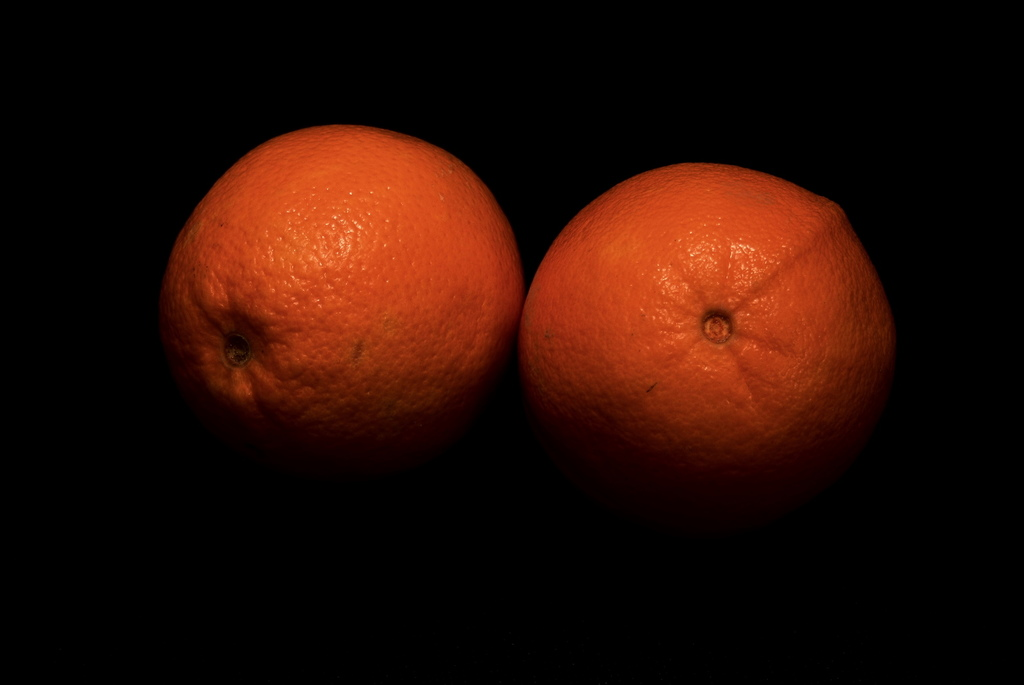Ripe: (161, 121, 526, 469), (516, 156, 890, 466)
